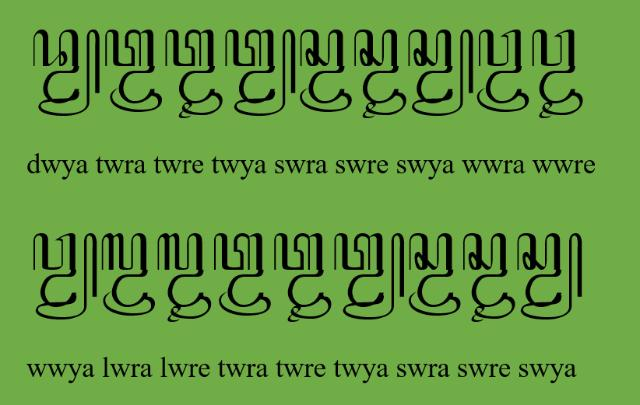dwy: (33, 29, 101, 118)
lwr: (101, 233, 155, 317)
lwre: (157, 232, 213, 324)
swr: (408, 233, 462, 317), (300, 29, 352, 113)
swre: (462, 233, 516, 323), (354, 29, 406, 119)
swy: (406, 28, 474, 116), (516, 233, 584, 321)
twr: (104, 29, 162, 113), (214, 233, 272, 317)
twre: (272, 232, 332, 324), (164, 29, 223, 119)
twy: (224, 30, 296, 116), (334, 233, 404, 321)
wwr: (477, 29, 529, 113)
wwre: (532, 28, 584, 120)
wwy: (34, 232, 96, 318)
